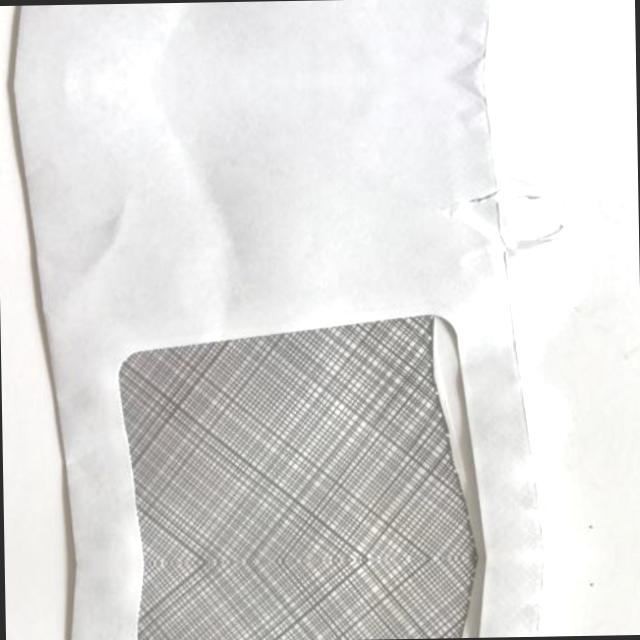paper: (12, 75, 594, 566), (10, 0, 585, 85), (20, 555, 595, 640)
